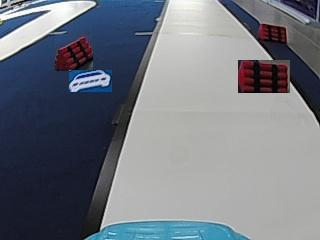bomb: (257, 23, 288, 42)
